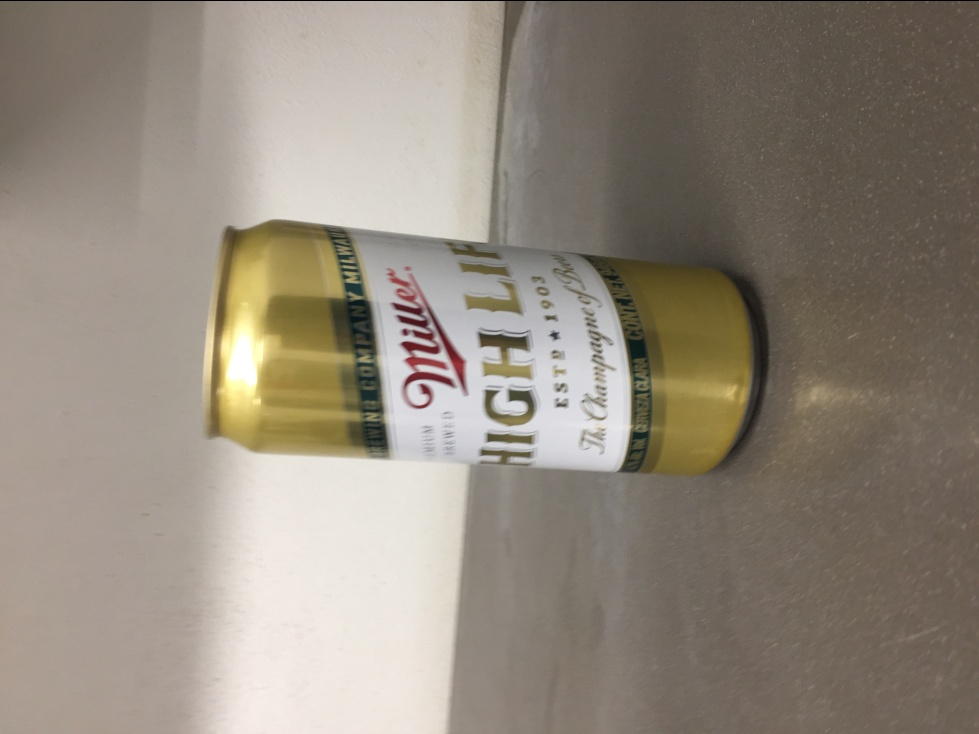miller: (201, 213, 771, 481)
